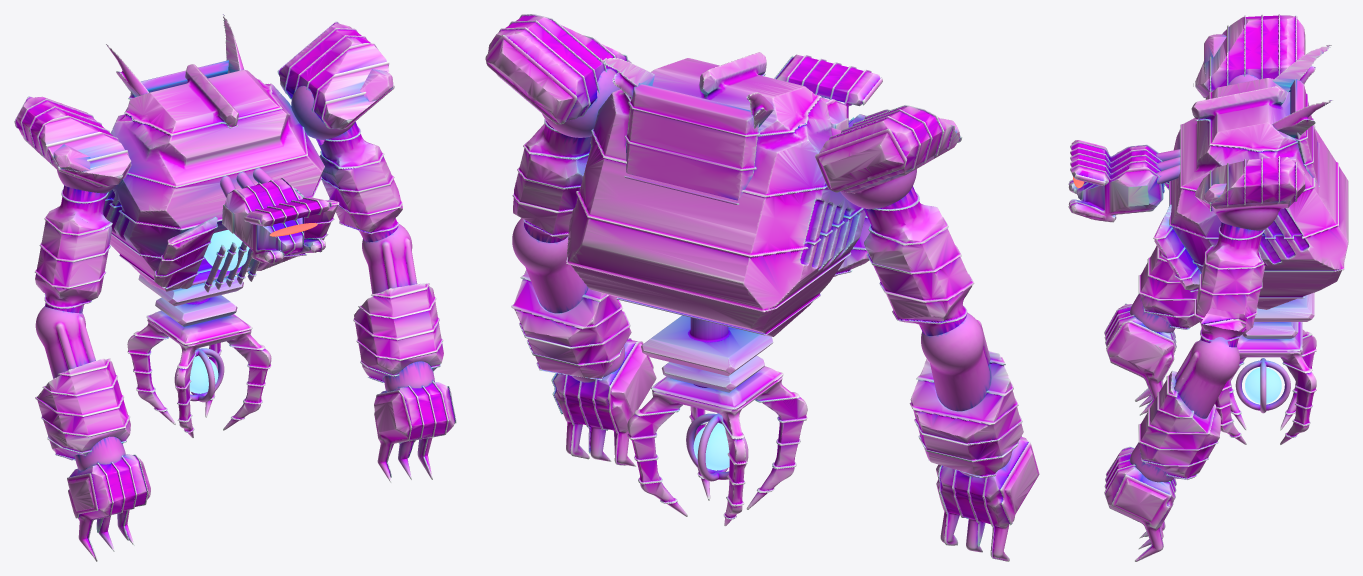
The model's file is sentinel.glb.
3 views of the same model, side by side, from view 1: azimuth 30°, elevation 25°; view 2: azimuth 150°, elevation 25°; view 3: azimuth 270°, elevation 25° (orthographic). The views are drawn at different scales.
Visible parts, largest first — view 1: torso, cradle, arm_r, pauldron_l, gauntlet_l, gauntlet_r, arm_l, head, pauldron_r, fist_l, fist_r, forearm_r (+13 smaller); view 2: torso, plate_back, cradle, arm_r, pauldron_l, gauntlet_r, pauldron_r, gauntlet_l, fist_l, fist_r, arm_l, spine (+9 smaller); view 3: torso, arm_l, head, pauldron_r, gauntlet_l, cradle, pauldron_l, forearm_l, fist_l, fist_r, gauntlet_r, spine (+10 smaller).
Part boxes in pixels (x1,y1,x2,y2): torso: (103,64,324,292); cradle: (127,310,271,437); arm_r: (34,185,112,313); pauldron_l: (277,21,394,129); gauntlet_l: (353,283,443,382); gauntlet_r: (35,358,130,460); arm_l: (316,121,402,242); head: (222,177,331,263); pauldron_r: (14,96,131,187); fist_l: (374,381,456,482); fist_r: (67,454,150,561); forearm_r: (35,306,125,471); torso: (566,52,865,336); plate_back: (624,83,760,204); cradle: (627,366,807,526); arm_r: (863,186,974,335); pauldron_l: (485,14,631,124); gauntlet_r: (909,351,1023,477); pauldron_r: (815,105,962,192); gauntlet_l: (511,269,631,380); fist_l: (551,338,656,466); fist_r: (936,436,1039,561); arm_l: (512,119,591,242); spine: (641,315,773,392); torso: (1169,78,1348,309); arm_l: (1194,222,1264,347); head: (1068,140,1164,222); pauldron_r: (1193,14,1305,98); gauntlet_l: (1138,370,1221,479); cradle: (1215,322,1316,444); pauldron_l: (1193,156,1305,211); forearm_l: (1130,337,1239,482); fist_l: (1104,446,1176,561); fist_r: (1104,303,1176,415); gauntlet_r: (1138,245,1199,329); spine: (1242,292,1314,338).
Size of the model in its own units: 3.56 by 3.68 by 2.28.
